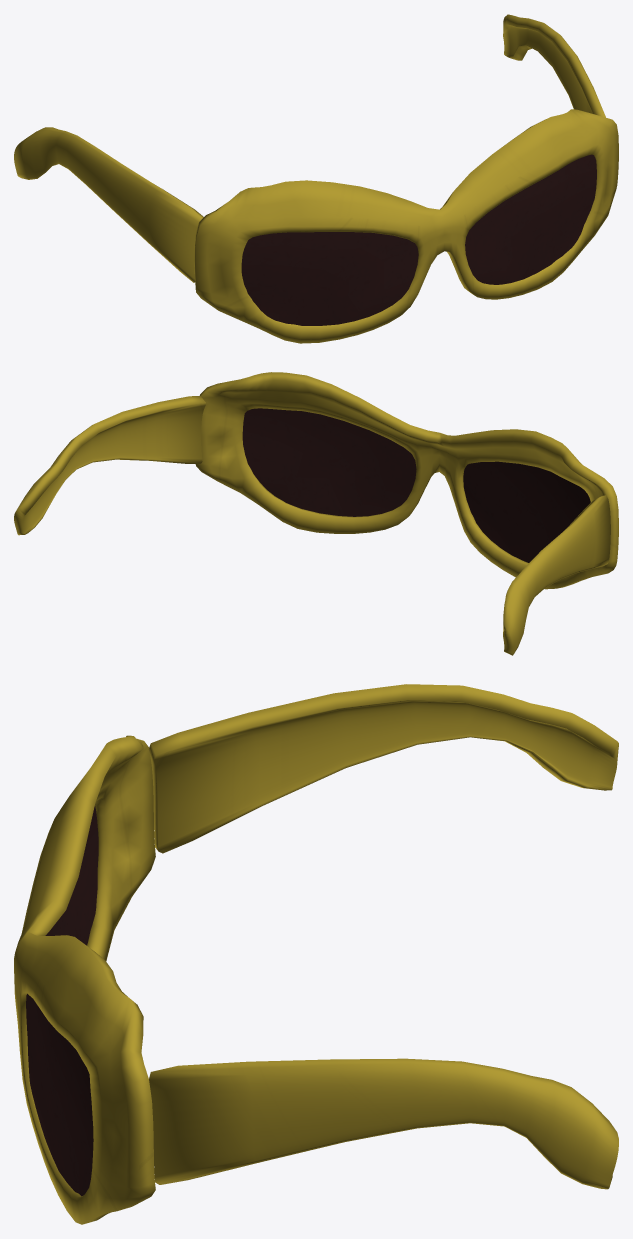
Rendered from Missing_Mottega.glb.
3 views of the same model, one above another, from view 1: azimuth 30°, elevation 25°; view 2: azimuth 150°, elevation 25°; view 3: azimuth 270°, elevation 25° (orthographic). The views are drawn at different scales.
Visible parts, largest first — view 1: Missing_Mottega; view 2: Missing_Mottega; view 3: Missing_Mottega.
Part boxes in pixels (x1,y1,x2,y2): Missing_Mottega: (14, 14, 618, 343); Missing_Mottega: (14, 372, 618, 655); Missing_Mottega: (14, 684, 618, 1224).
Bounding box in the file's own units: 1.01 × 0.308 × 0.6393.
2 materials, 2 textured.
